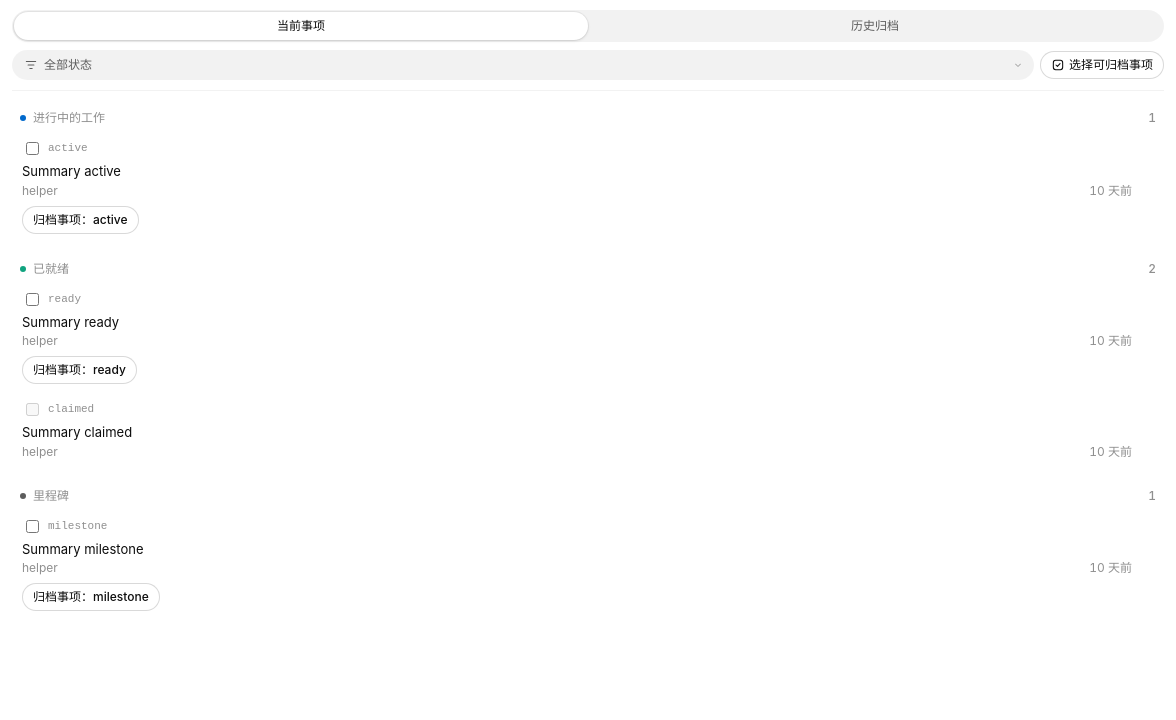
Test: WhiteboardPanel lifecycle › archives only eligible selected items after confirmation
Click the button "选择可归档事项". click: x=1102, y=65
box: [1040,51,1164,79]
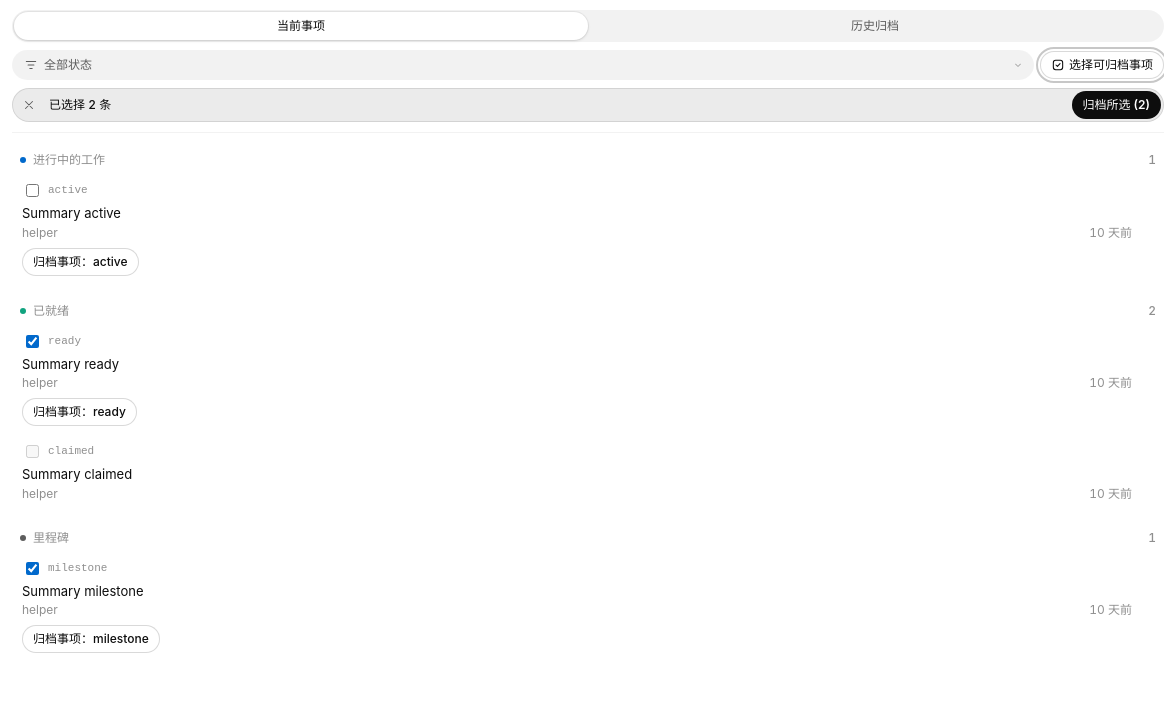
expect the text "已选择 2 条" is shown: met, box [49,96,111,114]
Click the button "归档所选 (2)". click: x=1116, y=105
box: [1072,91,1161,119]
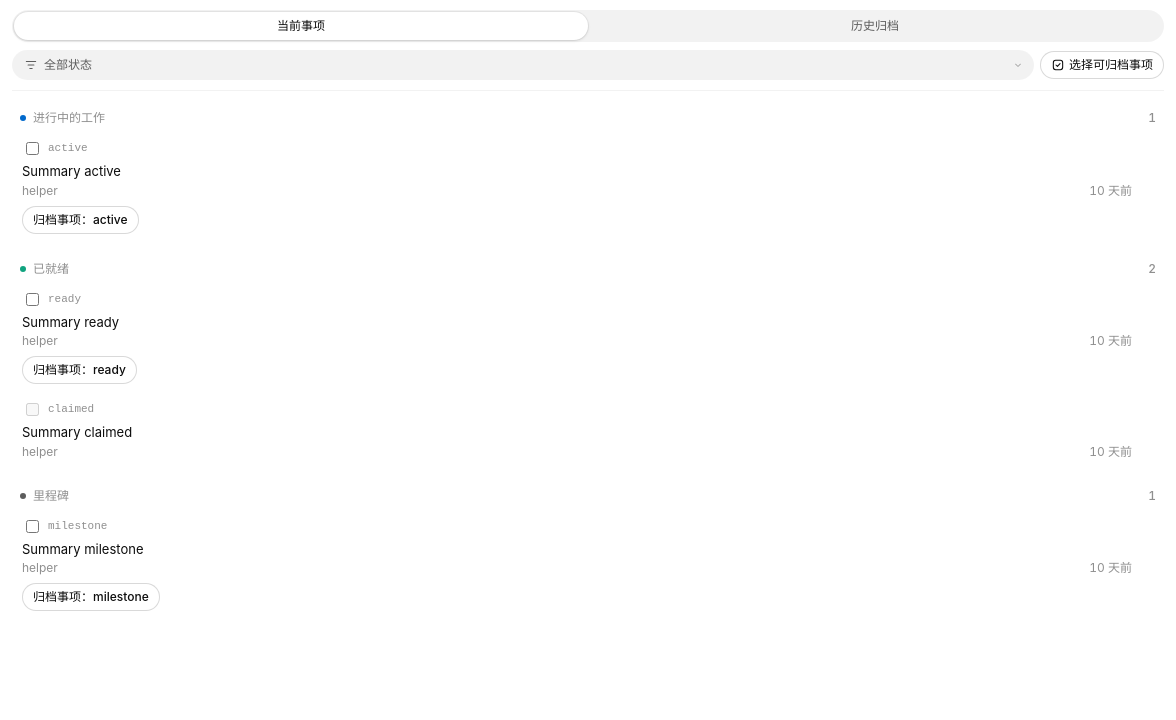
expect the element "批量操作" is gone: met
